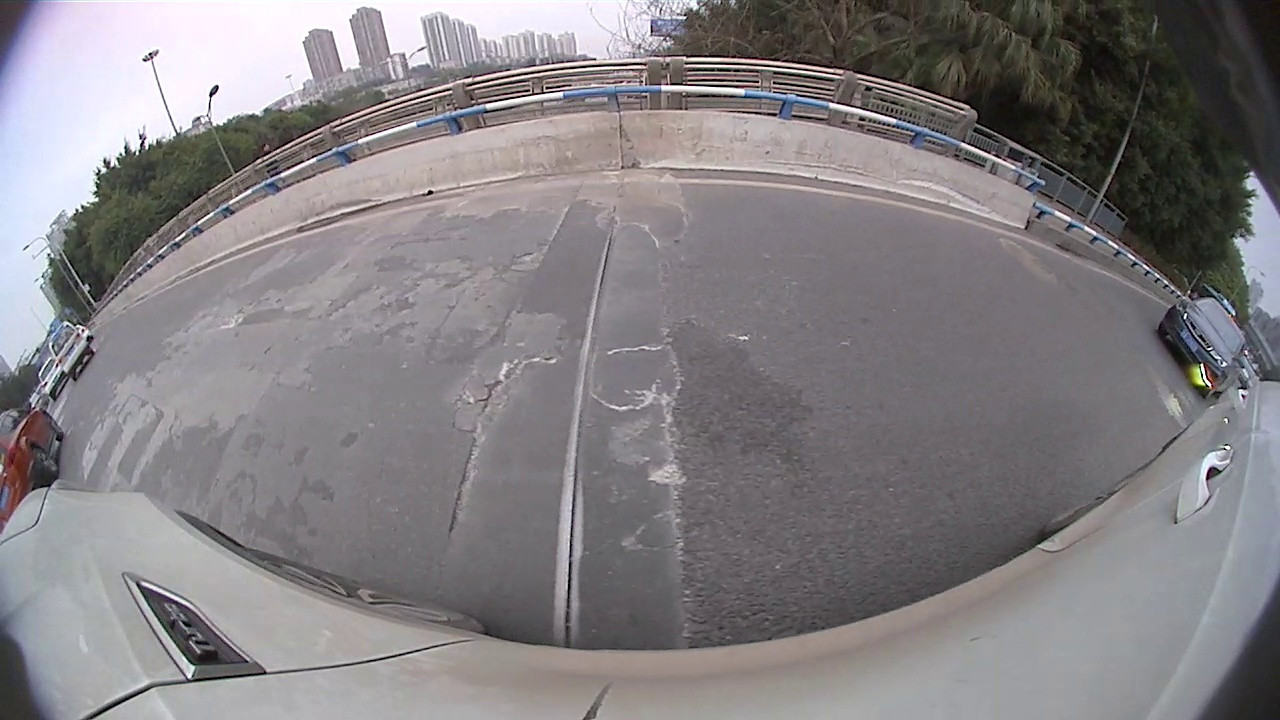car: (1156, 294, 1249, 401), (1, 403, 65, 533), (48, 318, 96, 381), (37, 355, 69, 401)
front: (1198, 371, 1224, 404), (44, 410, 68, 438), (1153, 321, 1175, 340)
rear: (30, 445, 64, 479)
